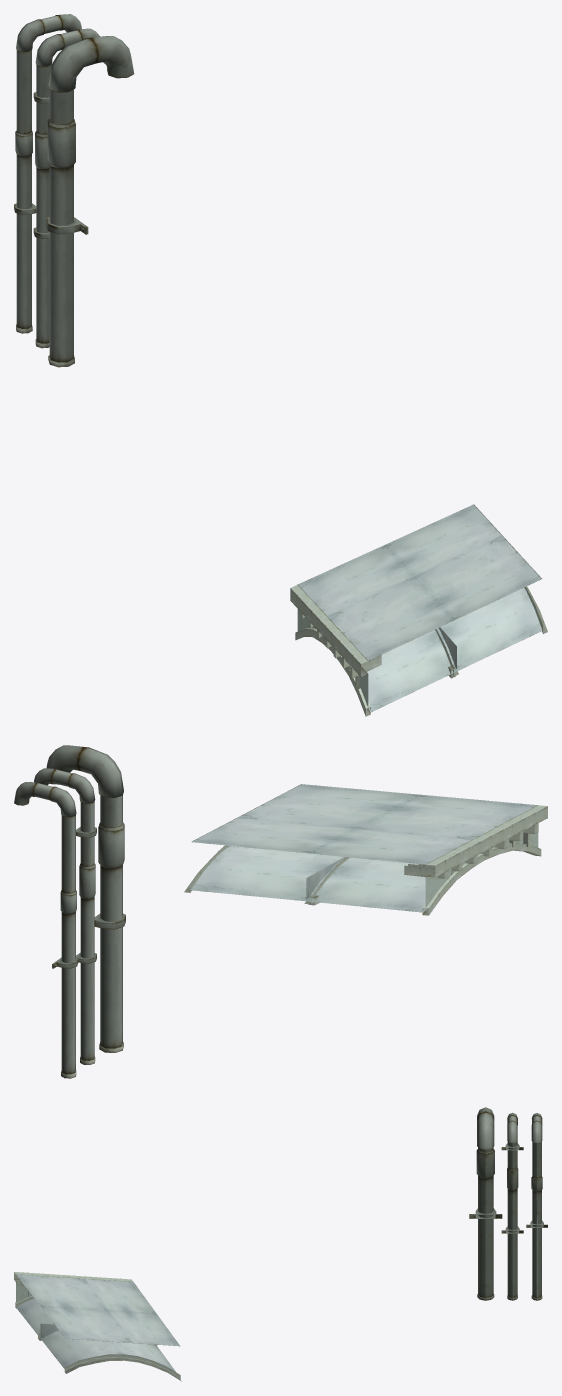
3 views of the same model, one above another, from view 1: azimuth 30°, elevation 25°; view 2: azimuth 150°, elevation 25°; view 3: azimuth 270°, elevation 25° (orthographic). The views are drawn at different scales.
Parts seen in each view (by area): view 1: sa00z_hasi01_001, sa00zobj110_001; view 2: sa00z_hasi01_001, sa00zobj110_001; view 3: sa00z_hasi01_001, sa00zobj110_001.
Boxes of the visible parts, left/top/right/bottom form: sa00z_hasi01_001: left=290, top=504, right=547, bottom=716; sa00zobj110_001: left=14, top=14, right=134, bottom=367; sa00z_hasi01_001: left=184, top=784, right=547, bottom=915; sa00zobj110_001: left=14, top=745, right=125, bottom=1078; sa00z_hasi01_001: left=14, top=1272, right=181, bottom=1381; sa00zobj110_001: left=469, top=1107, right=547, bottom=1300.
Size of the model in its own units: 20.41 by 28.47 by 60.34.
3 materials, 3 textured.
